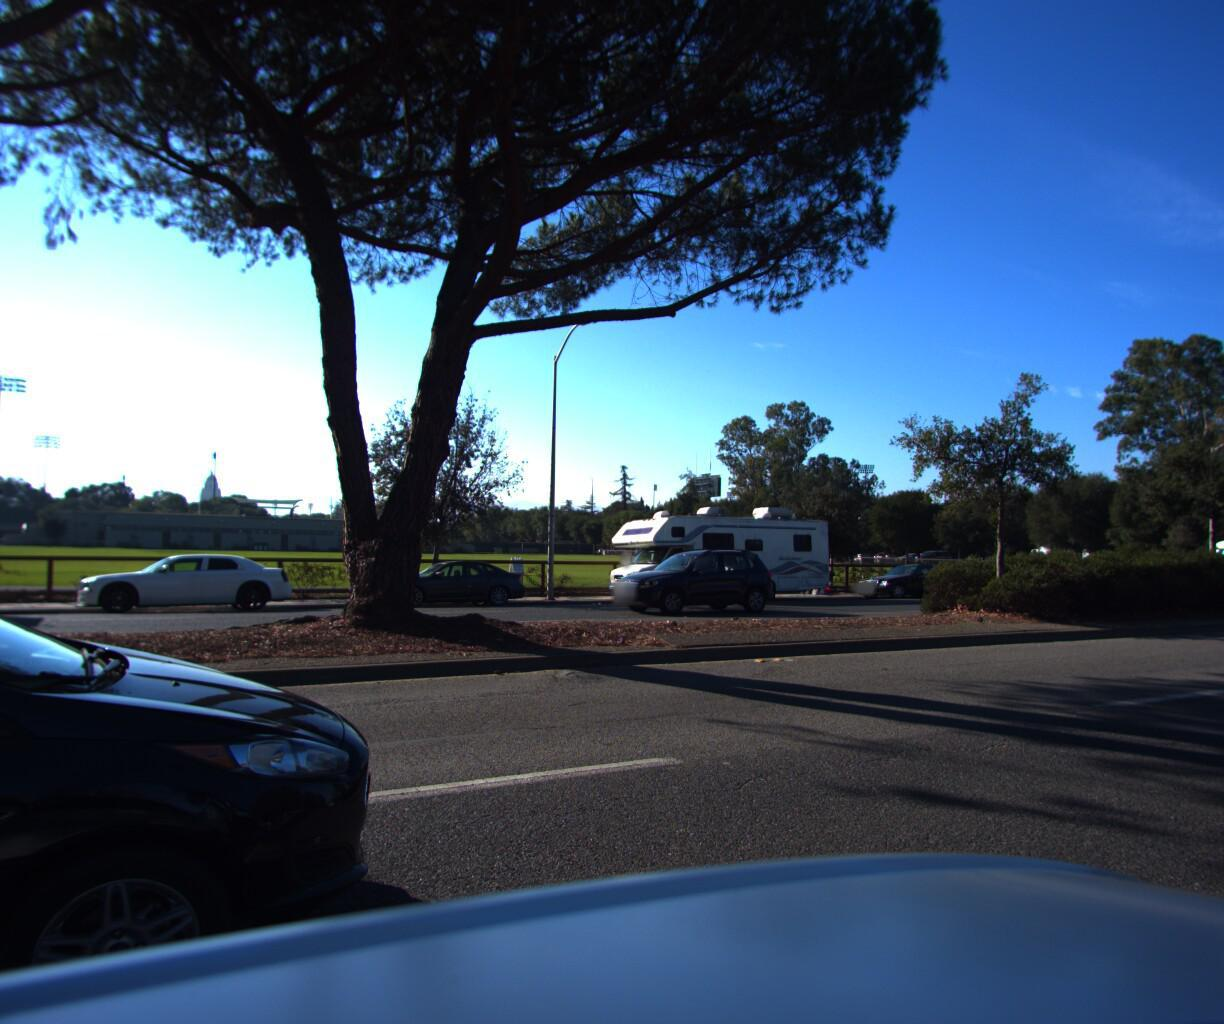car: (0, 334, 437, 1024), (68, 556, 297, 623), (600, 544, 780, 617), (352, 561, 532, 616), (845, 561, 972, 603)
other_vehicle: (587, 493, 837, 607), (1199, 527, 1224, 592)
